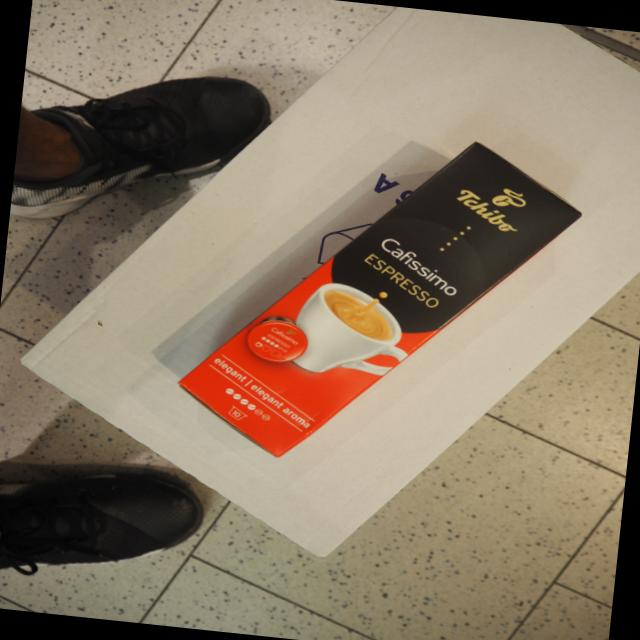Simo Es Elegant: (171, 138, 587, 463)
